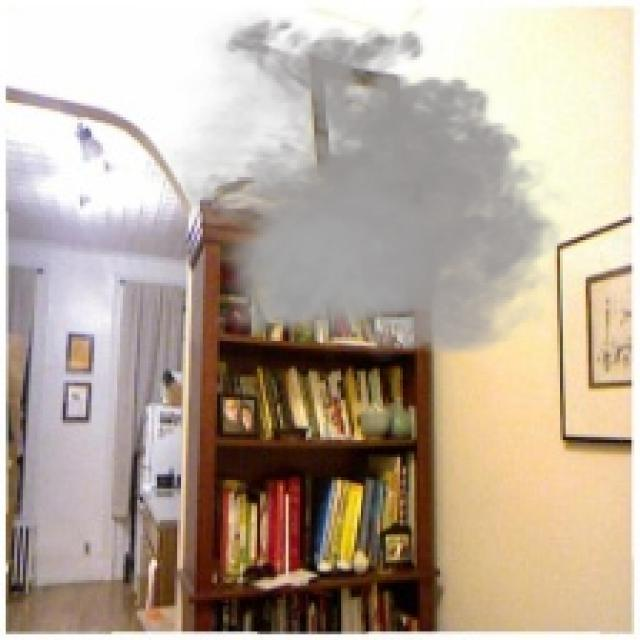smoke: (157, 6, 577, 368)
